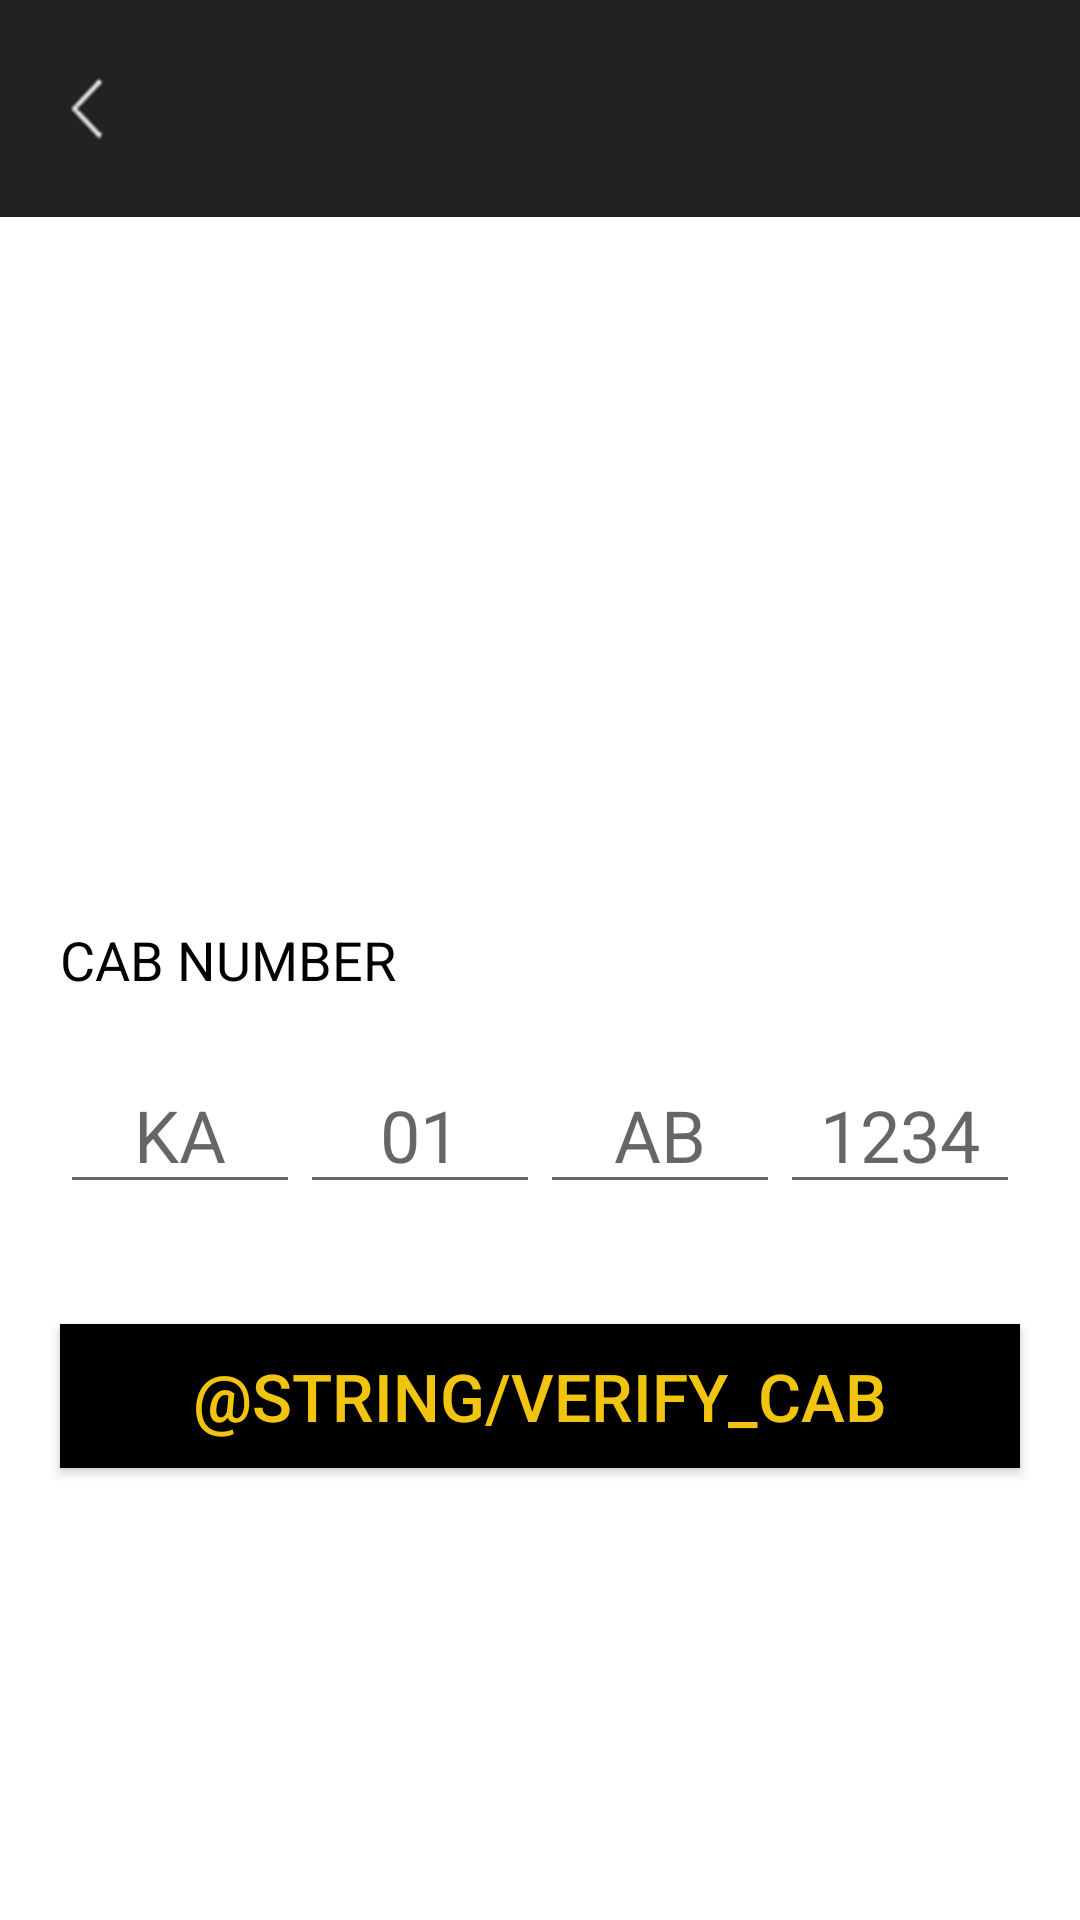

Named icons in this screenshot (1080px×1920px) and their bounding boxes, detection(x1, y1, x2, y2):
Back button to navigate previous activity: detection(71, 78, 103, 139)
